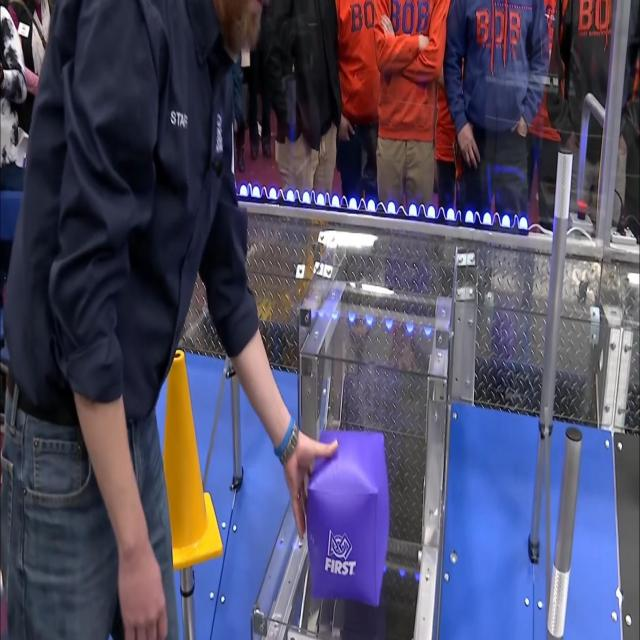frc_cone: (162, 352, 224, 570)
frc_cube: (306, 425, 391, 610)
